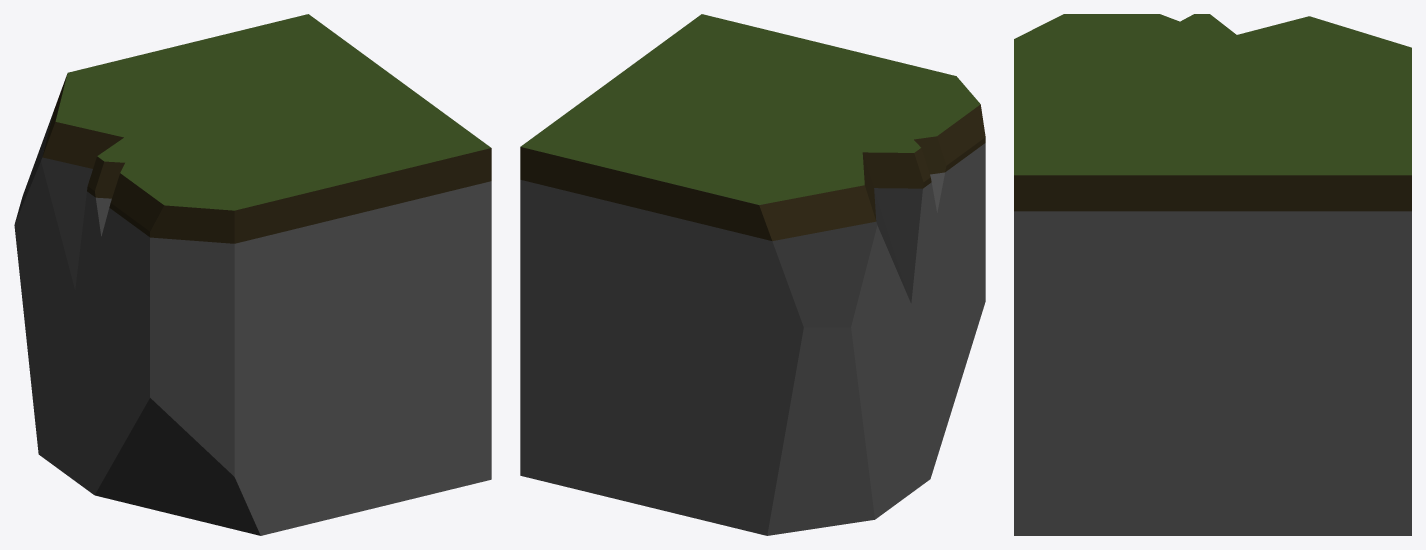
The model's file is E_Rockwall01.fbx.
3 renders of one model, left to right at view 1: azimuth 30°, elevation 25°; view 2: azimuth 150°, elevation 25°; view 3: azimuth 270°, elevation 25°, orthographic. The views are drawn at different scales.
Visible parts, largest first — view 1: E_Rockwall01; view 2: E_Rockwall01; view 3: E_Rockwall01.
Part boxes in pixels (x1,y1,x2,y2): E_Rockwall01: (14,14,491,535); E_Rockwall01: (520,14,985,535); E_Rockwall01: (1014,14,1411,535).
Size of the model in its own units: 99 by 100 by 100.
